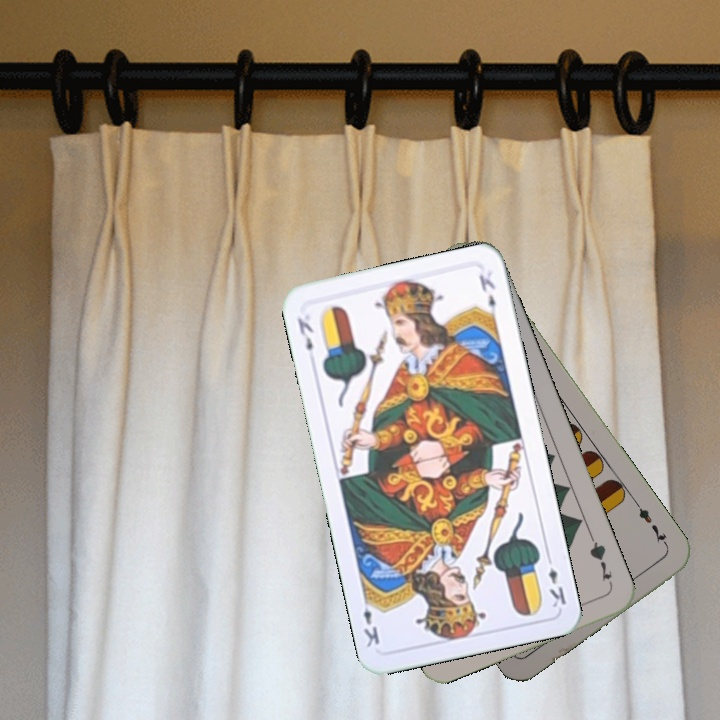E7: (631, 498, 671, 550)
EK: (542, 551, 569, 610), (293, 313, 316, 354)
G7: (585, 533, 615, 589)
